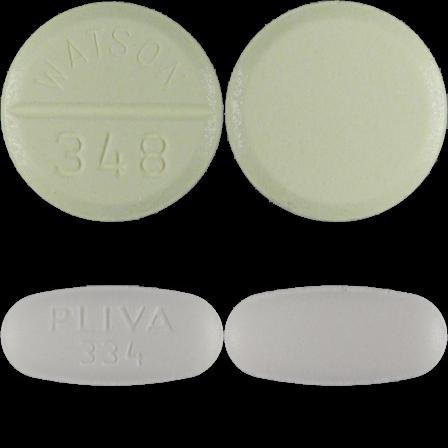49999-094: (0, 0, 224, 224)
